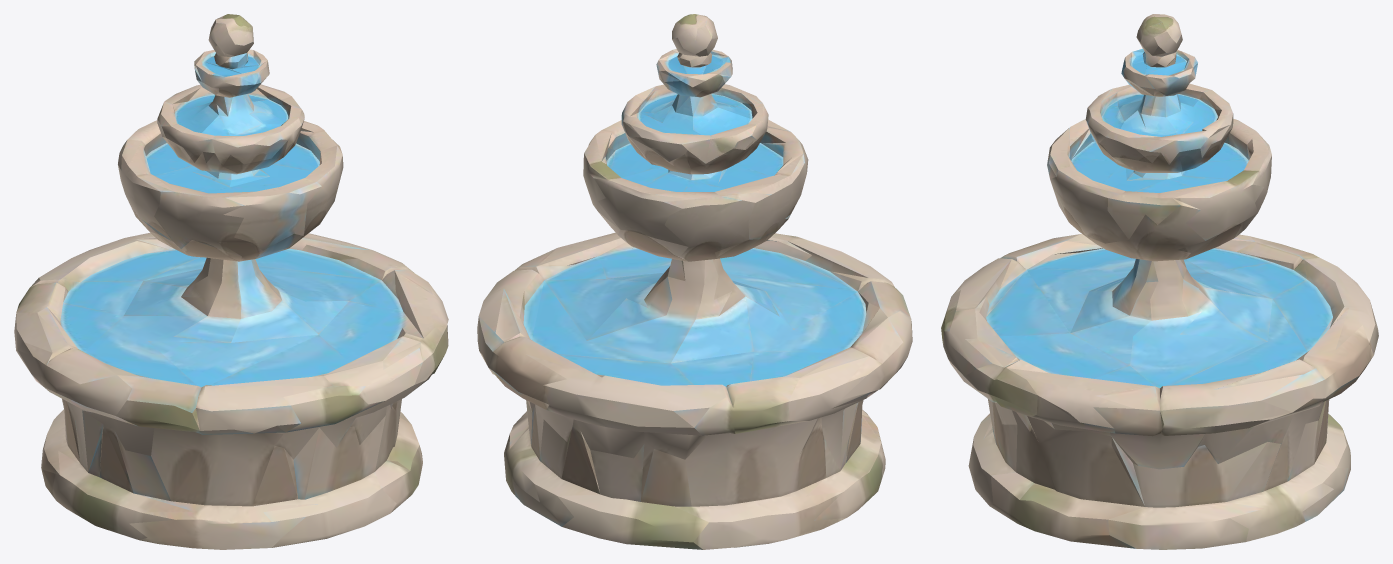
Rendered from deco-fountain.glb.
The picture shows the model from 3 angles, left to right: view 1: azimuth 30°, elevation 25°; view 2: azimuth 150°, elevation 25°; view 3: azimuth 270°, elevation 25°; orthographic projection.
Visible parts, largest first — view 1: deco-fountain-fit; view 2: deco-fountain-fit; view 3: deco-fountain-fit.
Boxes of the visible parts, <box> form: deco-fountain-fit: <box>14,14,448,549</box>; deco-fountain-fit: <box>477,14,912,549</box>; deco-fountain-fit: <box>941,14,1378,549</box>.
Size of the model in its own units: 1.57 by 1.8 by 1.57.
1 material, 1 textured.
